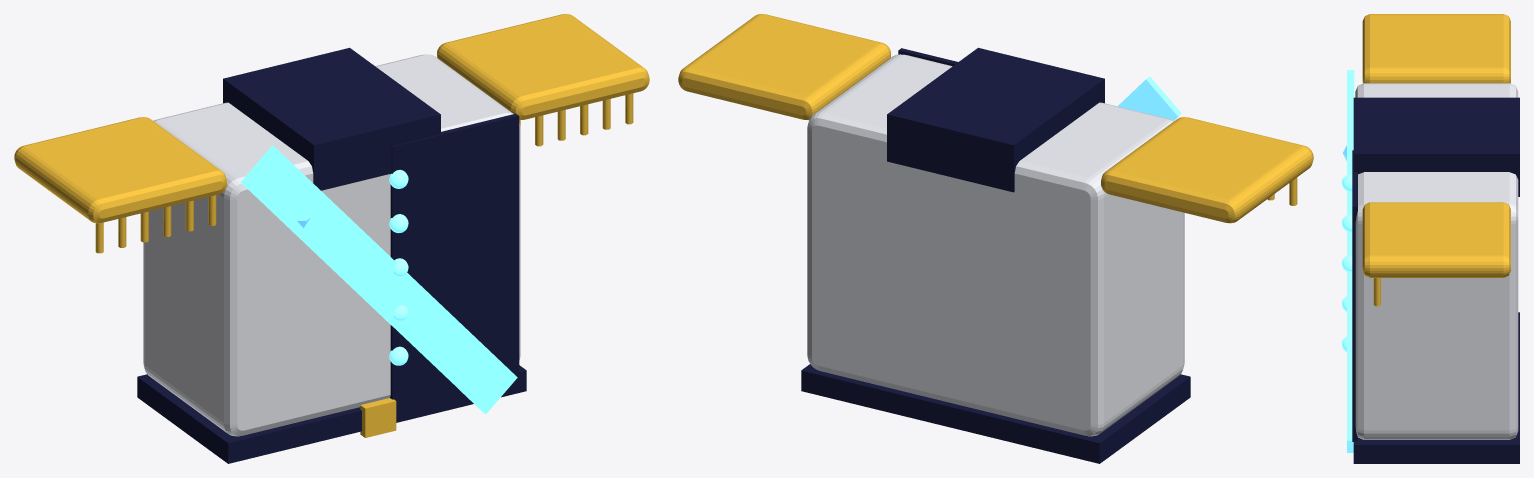
The model's file is eqf_eqen4.glb.
The picture shows the model from 3 angles, left to right: view 1: azimuth 30°, elevation 25°; view 2: azimuth 150°, elevation 25°; view 3: azimuth 270°, elevation 25°; orthographic projection. The views are drawn at different scales.
Bounding box in the file's own units: 3.98 × 2.15 × 1.2.
